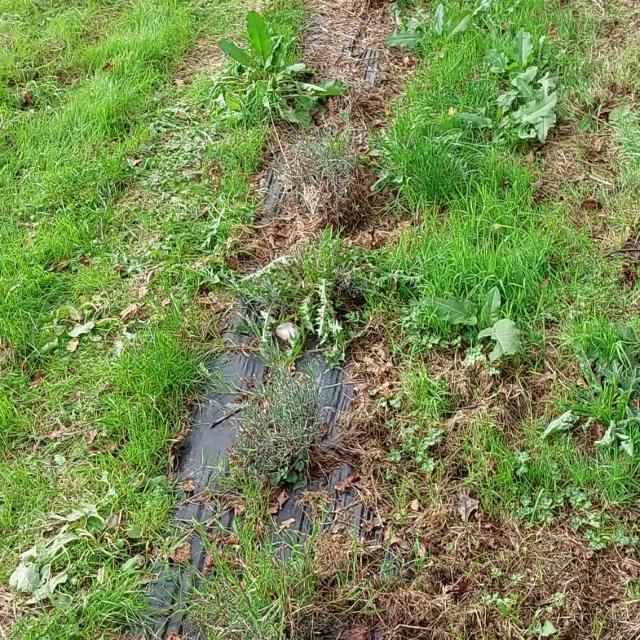organic waste: (188, 0, 340, 133), (0, 494, 130, 612), (428, 276, 559, 366), (473, 68, 589, 154), (384, 0, 480, 73), (24, 275, 115, 351), (483, 18, 574, 88)
